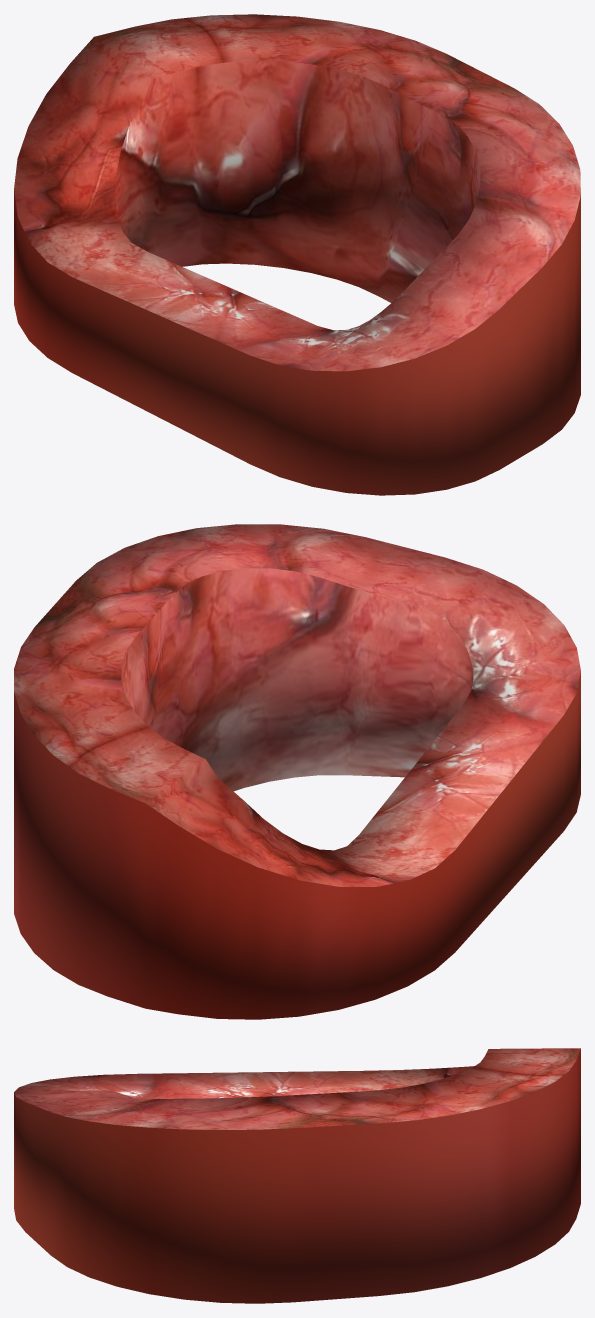
The model's file is AbdomenCirugia2.gltf.
3 renders of one model, top to bottom at view 1: azimuth 30°, elevation 25°; view 2: azimuth 150°, elevation 25°; view 3: azimuth 270°, elevation 25°, orthographic. The views are drawn at different scales.
Parts seen in each view (by area): view 1: human_male_base03.009; view 2: human_male_base03.009; view 3: human_male_base03.009.
Boxes of the visible parts, x1,y1,x2,y2 form: human_male_base03.009: (14,14,580,495); human_male_base03.009: (14,524,580,1019); human_male_base03.009: (14,1048,580,1303).
Size of the model in its own units: 0.2742 by 0.1422 by 0.4115.
Materials: 1 (1 with a texture image).
